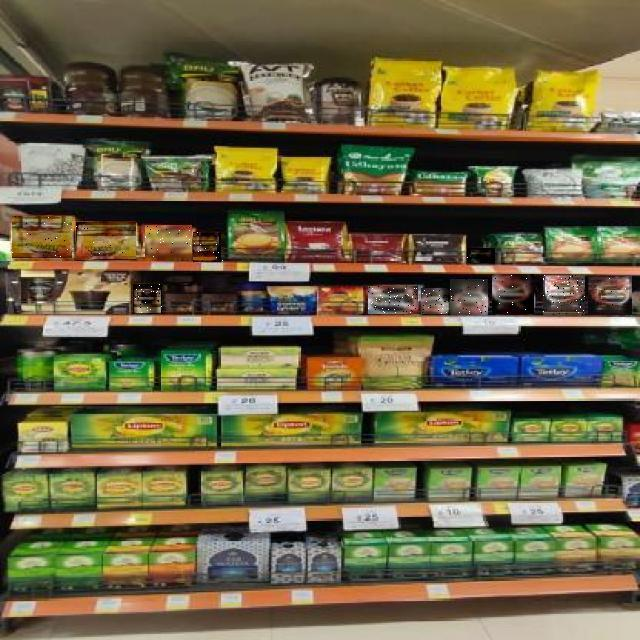Coffee: (13, 216, 73, 258), (76, 222, 136, 260), (588, 276, 632, 315), (492, 275, 534, 315), (543, 276, 585, 316), (145, 226, 192, 260), (368, 286, 418, 314), (450, 279, 488, 315), (194, 232, 224, 262), (133, 284, 162, 314), (422, 288, 448, 314), (467, 248, 495, 263)
